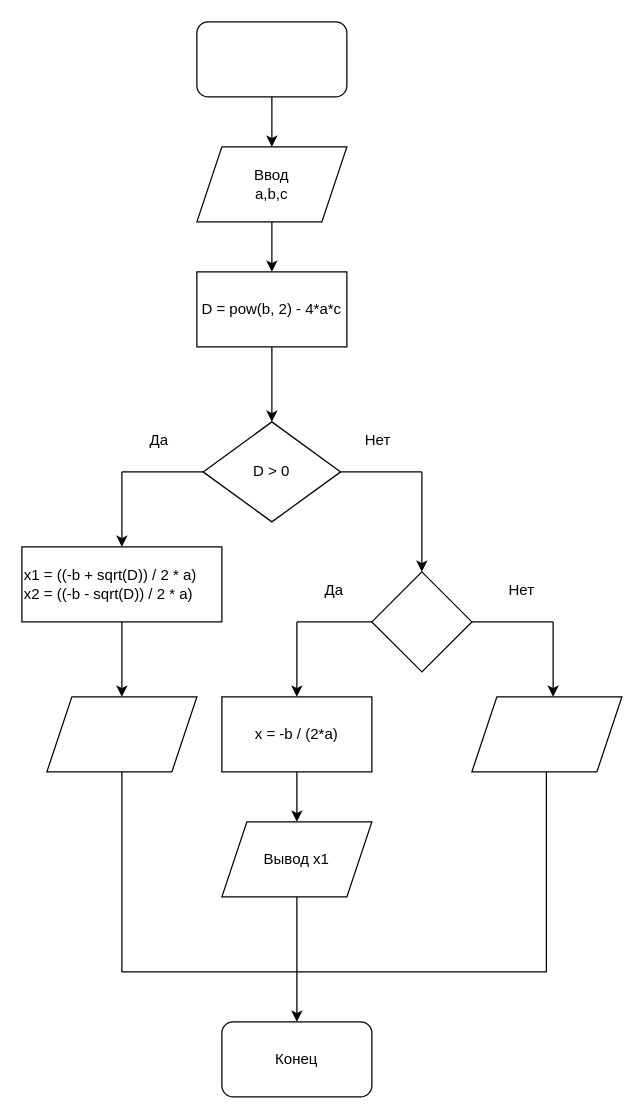
Some shapes in this 644 by 1119 pixel diagram are drawn without their labels. Each missing label, with the box of its shape:
D == 0: (371, 571, 472, 672)
Вывод x1, x2: (46, 696, 197, 772)
Вывод Нет решений: (471, 696, 622, 772)
Начало: (196, 21, 347, 97)
